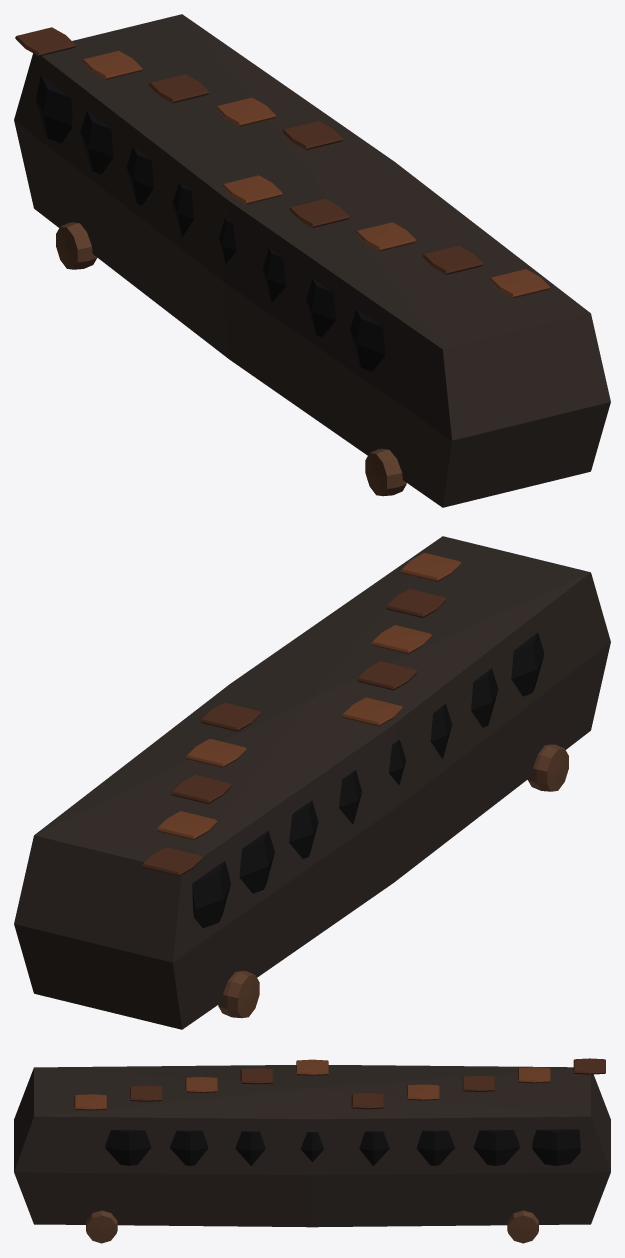
File: s-burnt-bus.glb
3 renders of one model, top to bottom at view 1: azimuth 30°, elevation 25°; view 2: azimuth 150°, elevation 25°; view 3: azimuth 270°, elevation 25°, orthographic. The views are drawn at different scales.
Parts seen in each view (by area): view 1: p; view 2: p; view 3: p.
Boxes of the visible parts, bbox=[...] form: p: bbox=[14, 14, 610, 507]; p: bbox=[14, 536, 610, 1029]; p: bbox=[14, 1058, 610, 1243].
Bounding box in the file's own units: 2.6 × 2.55 × 10.77.
